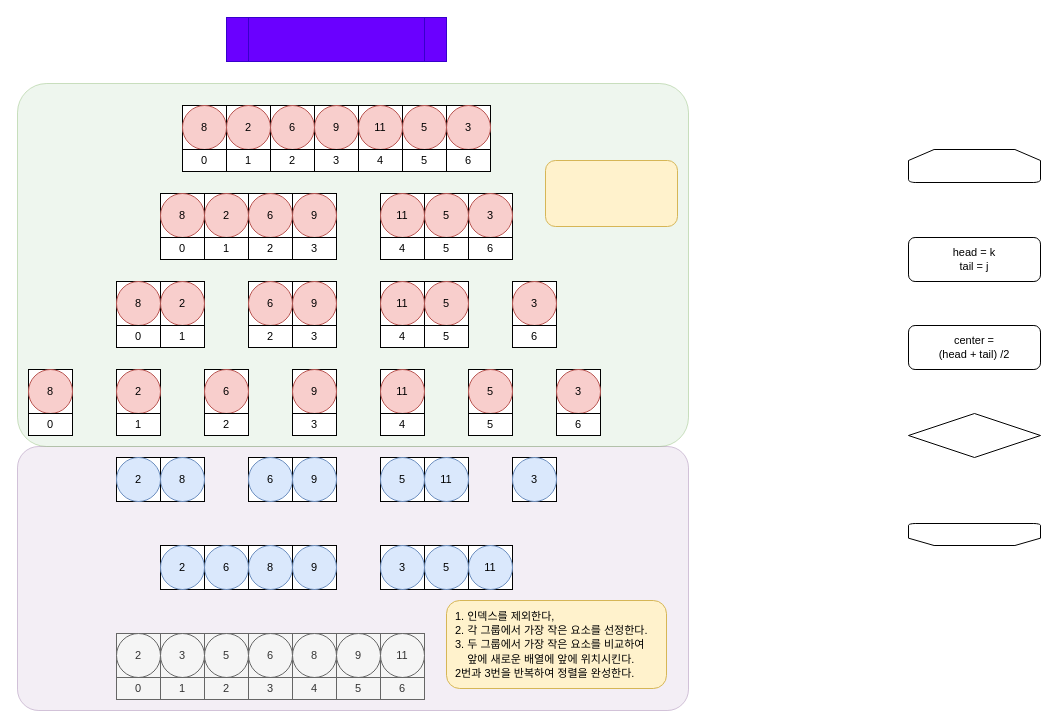
This 1058x728 diagram has some shape labels left out. The shapes that lost their labels are listed below. From the top down, each one's centre as x and y in pixels, then its label:
At pixel 336 39: "Merge Sort".
At pixel 974 165: "arr.length > 2".
At pixel 611 193: "모든 요소를 분해한다.".
